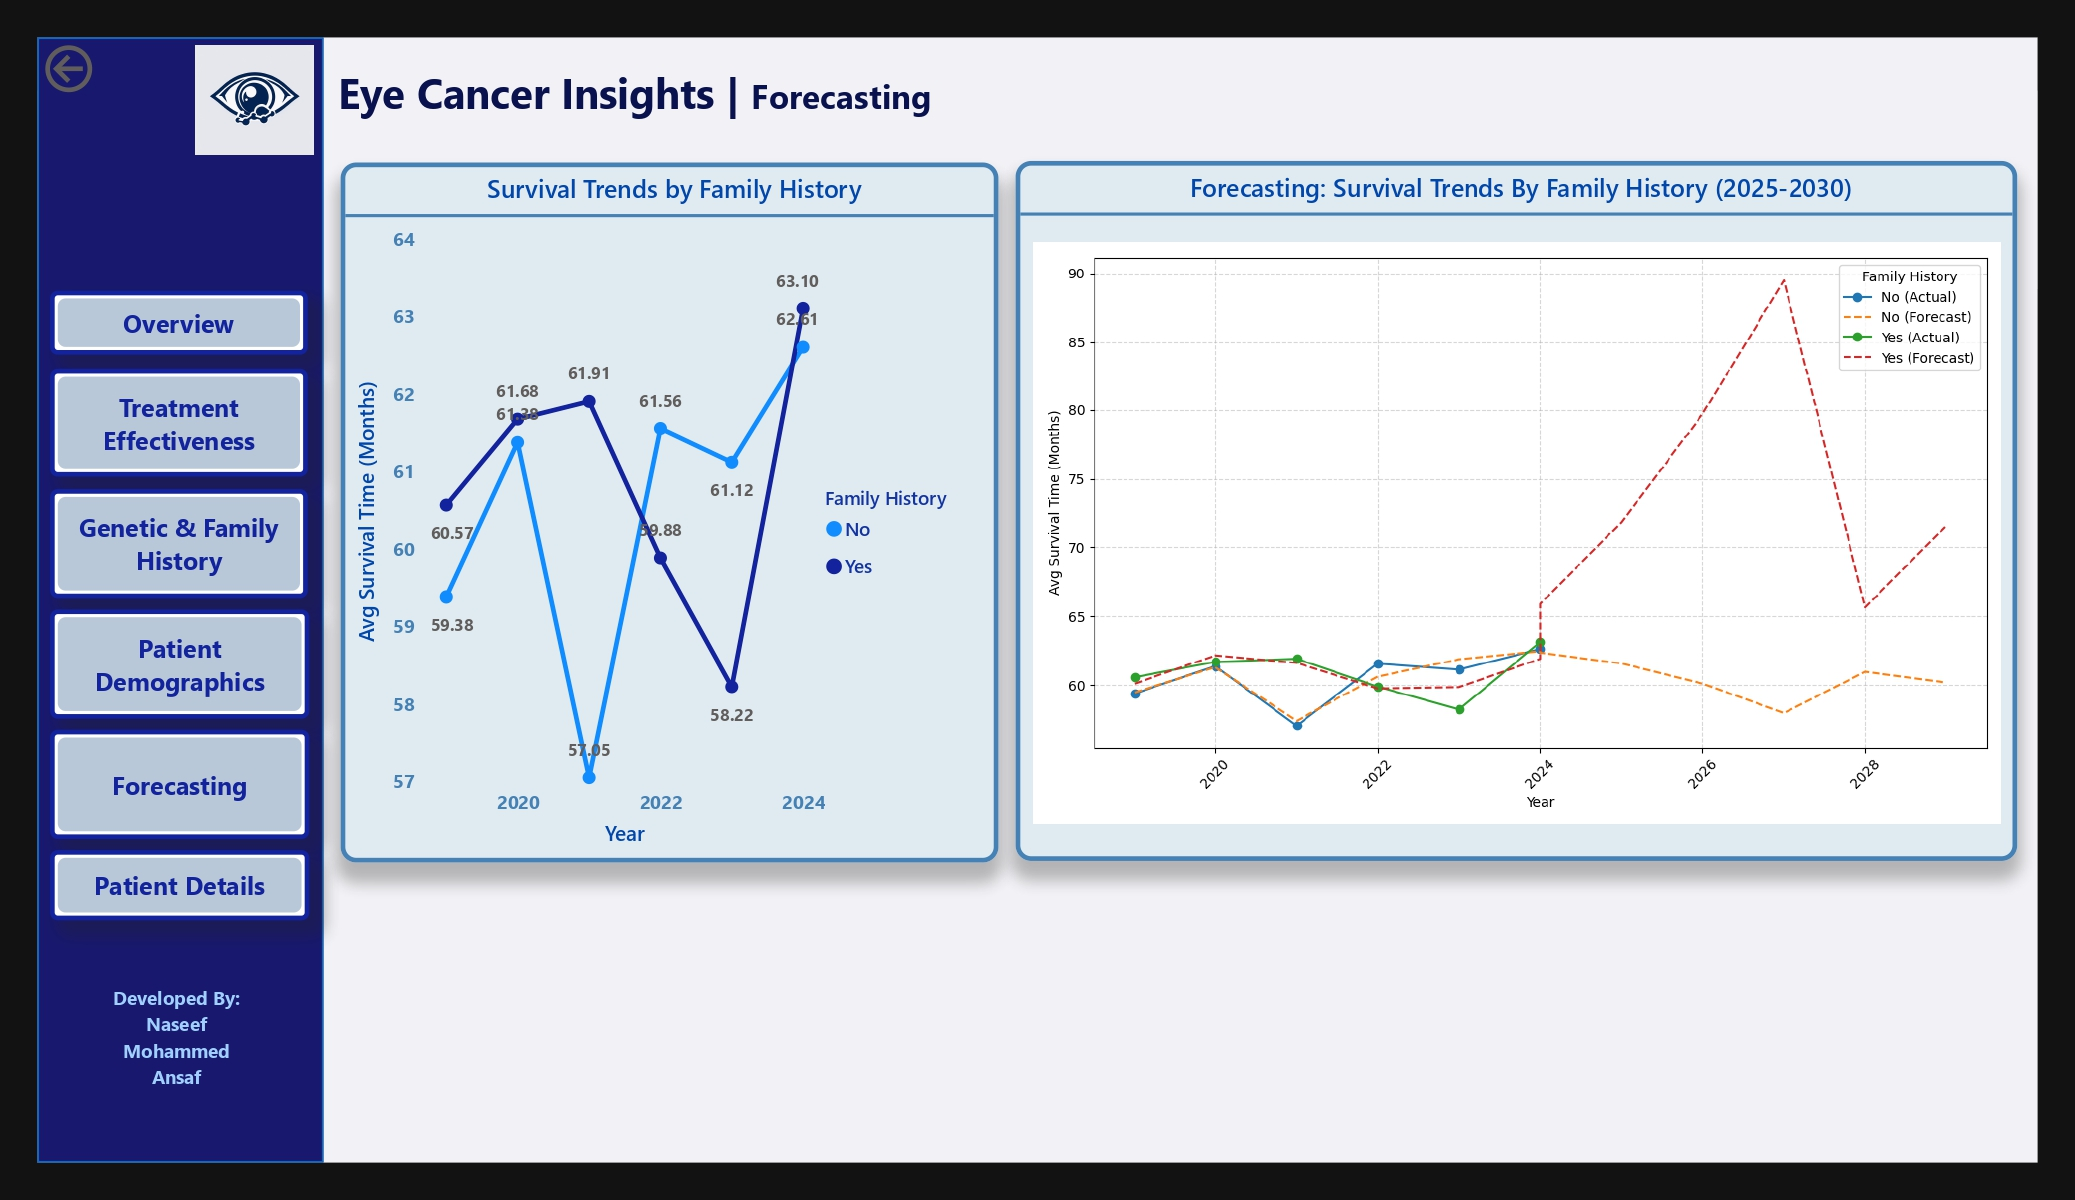

This screenshot's page, from the dashboard's own definition file:
{"tool":"powerbi","page":{"name":"Forecasting","canvas":[1280,720],"ordinal":4},"visuals":[{"type":"shape","box":[0,0,182.8,720.2],"z":0},{"type":"textbox","box":[182.8,12.3,398.8,47.9],"z":1000},{"type":"image","box":[96.5,0,85.9,80],"z":2000},{"type":"actionButton","box":[0,0,100,40],"z":3000},{"type":"pythonVisual","title":"Forecasting: Survival Trends By Family History (2025-2030)","fields":{"Values":["Eye cancer patients dataset_cleaned.Date_of_Diagnosis.Variation.Date Hierarchy.Year","Eye cancer patients dataset_cleaned.Survival_Time_Months","Eye cancer patients dataset_cleaned.Family_History"]},"box":[626.5,79.5,640.8,448],"z":4000},{"type":"lineChart","title":"Survival Trends by Family History","fields":{"Category":["Eye cancer patients dataset_cleaned.Date_of_Diagnosis.Variation.Date Hierarchy.Year"],"Y":["Avg(Eye cancer patients dataset_cleaned.Survival_Time_Months)"],"Series":["Eye cancer patients dataset_cleaned.Family_History"]},"box":[193.9,79.8,420.9,447.9],"z":5000},{"type":"actionButton","box":[7.6,162.5,165.6,40.5],"z":5001},{"type":"actionButton","box":[7.6,211.5,165.6,69.9],"z":5002},{"type":"actionButton","box":[7.6,288.9,165.6,69.9],"z":5003},{"type":"actionButton","box":[8.4,365.8,165.6,69.9],"z":5004},{"type":"actionButton","box":[8.4,443.1,165.6,69.9],"z":5005},{"type":"actionButton","box":[8.4,520.4,165.6,44.2],"z":5006},{"type":"textbox","box":[38,600,101.8,85.9],"z":5007}]}

Visuals, with their boxes on the page's 1280x720 design canvas (x1, y1, x2, y2). These are canvas units, not pixel positions in the 2075x1200 screenshot, which may show the page scaled, cropped or inside an application window:
shape: Rect(0, 0, 183, 720)
textbox: Rect(183, 12, 582, 60)
image: Rect(96, 0, 182, 80)
actionButton: Rect(0, 0, 100, 40)
"Forecasting: Survival Trends By Family History (2025-2030)" pythonVisual: Rect(626, 80, 1267, 528)
"Survival Trends by Family History" lineChart: Rect(194, 80, 615, 528)
actionButton: Rect(8, 162, 173, 203)
actionButton: Rect(8, 212, 173, 281)
actionButton: Rect(8, 289, 173, 359)
actionButton: Rect(8, 366, 174, 436)
actionButton: Rect(8, 443, 174, 513)
actionButton: Rect(8, 520, 174, 565)
textbox: Rect(38, 600, 140, 686)
